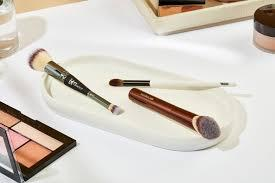brush: (28, 46, 124, 116), (129, 90, 220, 138), (110, 75, 239, 89)
makeup: (0, 101, 77, 181)
